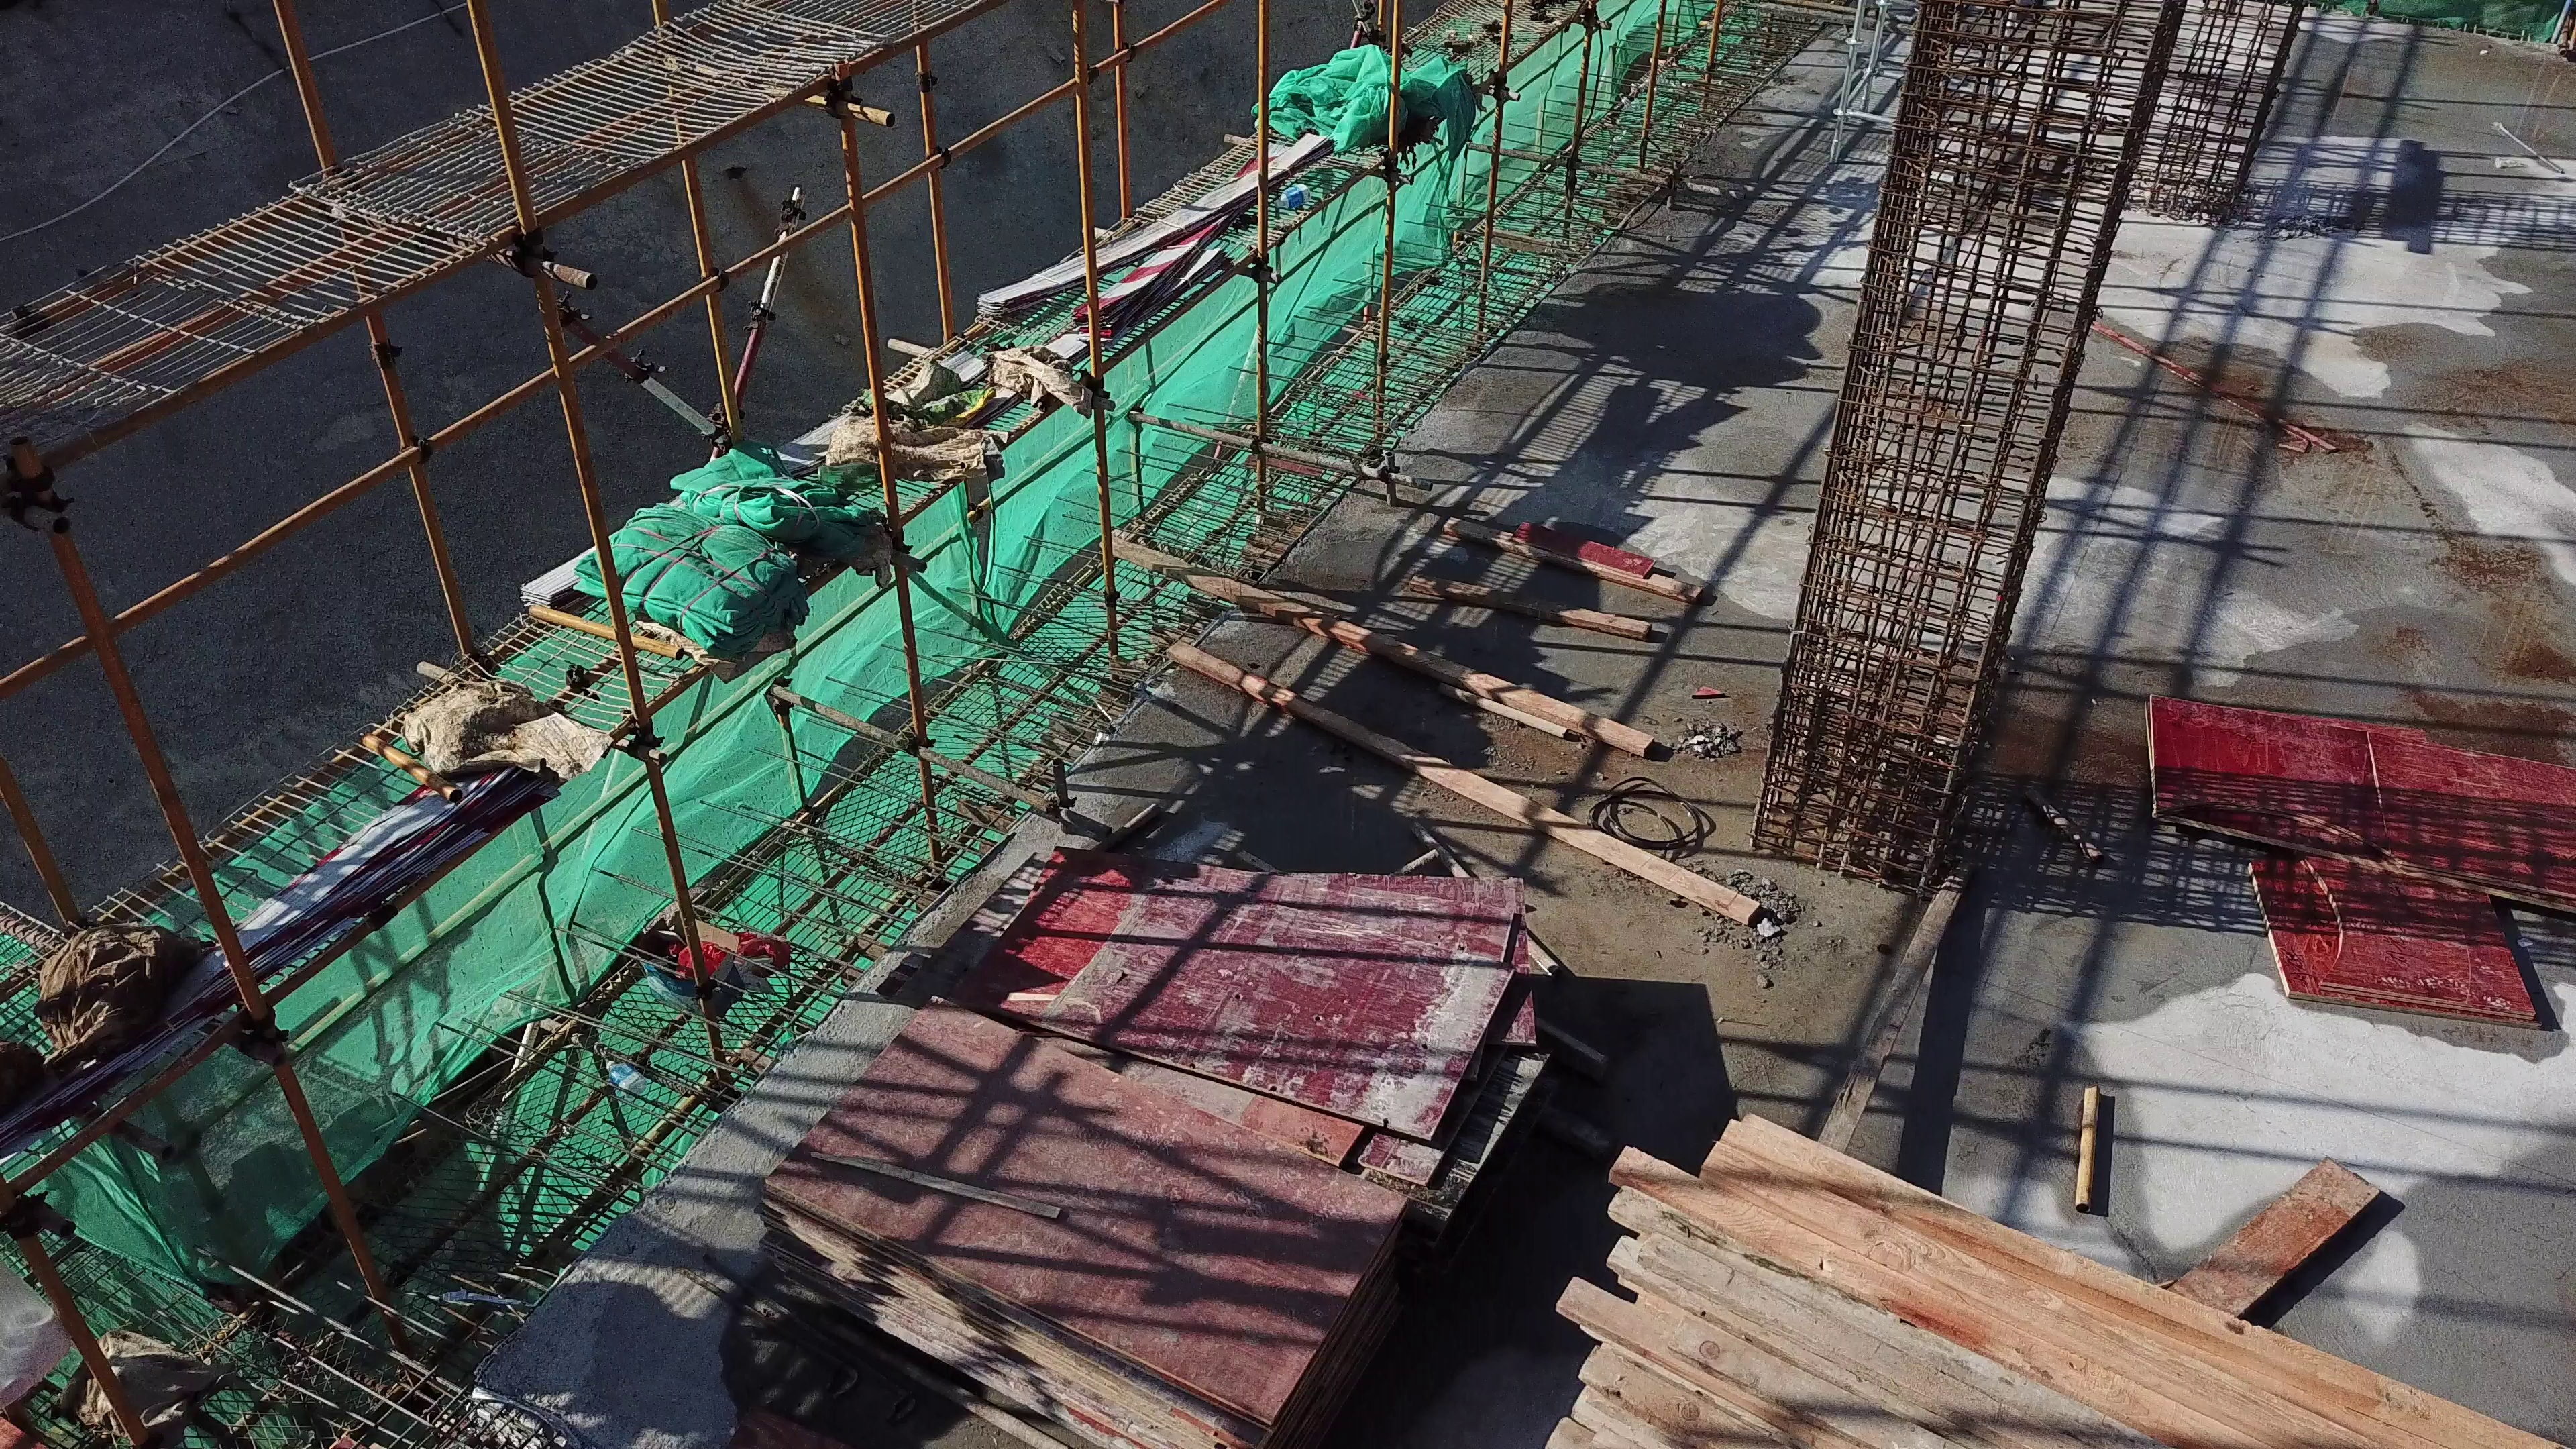board: (740, 816, 1566, 1449), (2135, 672, 2569, 1051)
wood: (1500, 1097, 2572, 1449)
